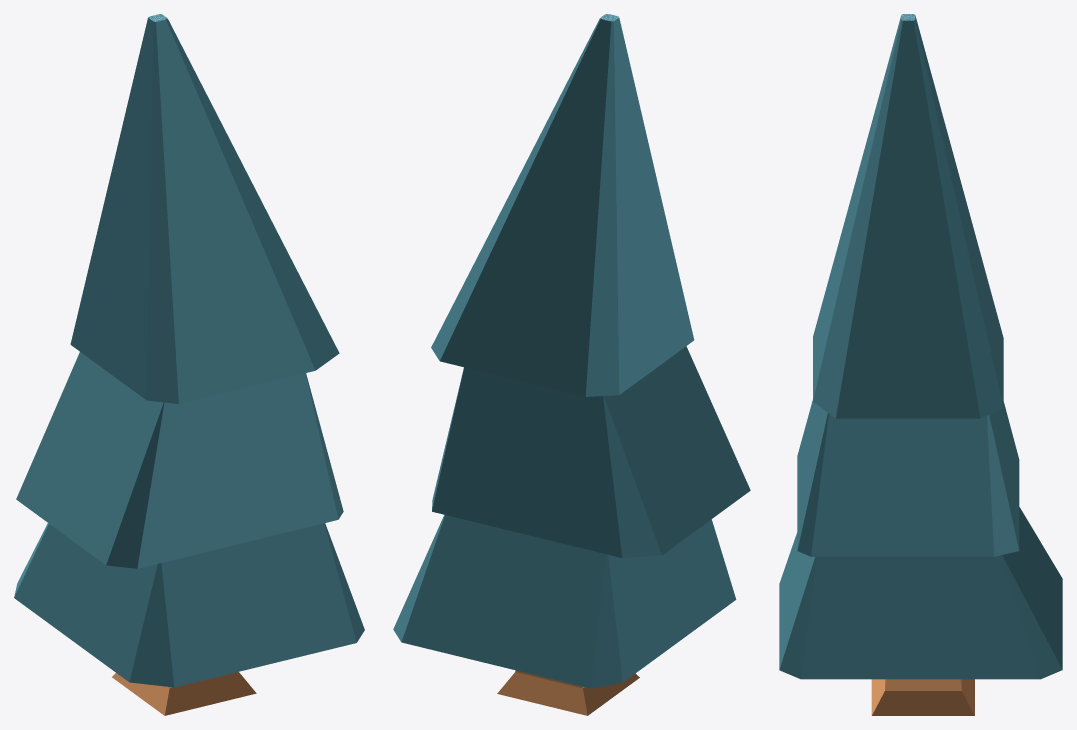
Rendered from tree_pineSmall_square3.obj.
3 views of the same model, side by side, from view 1: azimuth 30°, elevation 25°; view 2: azimuth 150°, elevation 25°; view 3: azimuth 270°, elevation 25° (orthographic). The views are drawn at different scales.
Parts seen in each view (by area): view 1: tree_pineSmall_square3; view 2: tree_pineSmall_square3; view 3: tree_pineSmall_square3.
Part boxes in pixels (left/top/right/bottom): tree_pineSmall_square3: left=14, top=14, right=364, bottom=715; tree_pineSmall_square3: left=393, top=14, right=750, bottom=715; tree_pineSmall_square3: left=779, top=14, right=1062, bottom=715.
Bounding box in the file's own units: 3.86 × 10.09 × 3.92.
